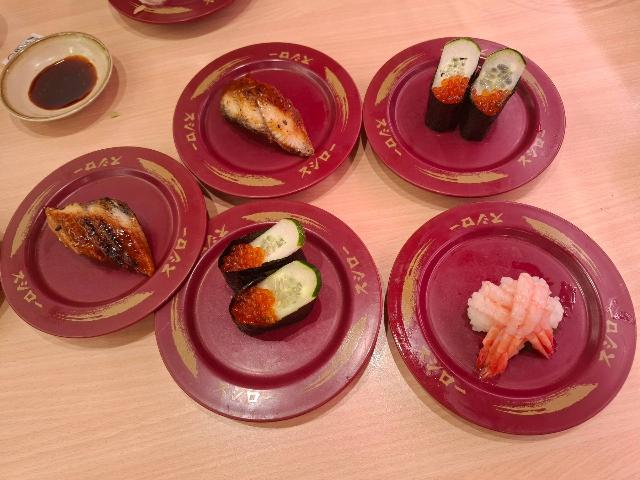janred: (371, 237, 613, 402), (162, 52, 389, 186), (211, 244, 402, 394), (33, 174, 220, 318), (364, 65, 543, 176), (84, 0, 248, 34)
